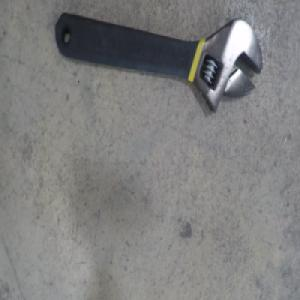AdjustableWrench: (53, 10, 260, 118)
